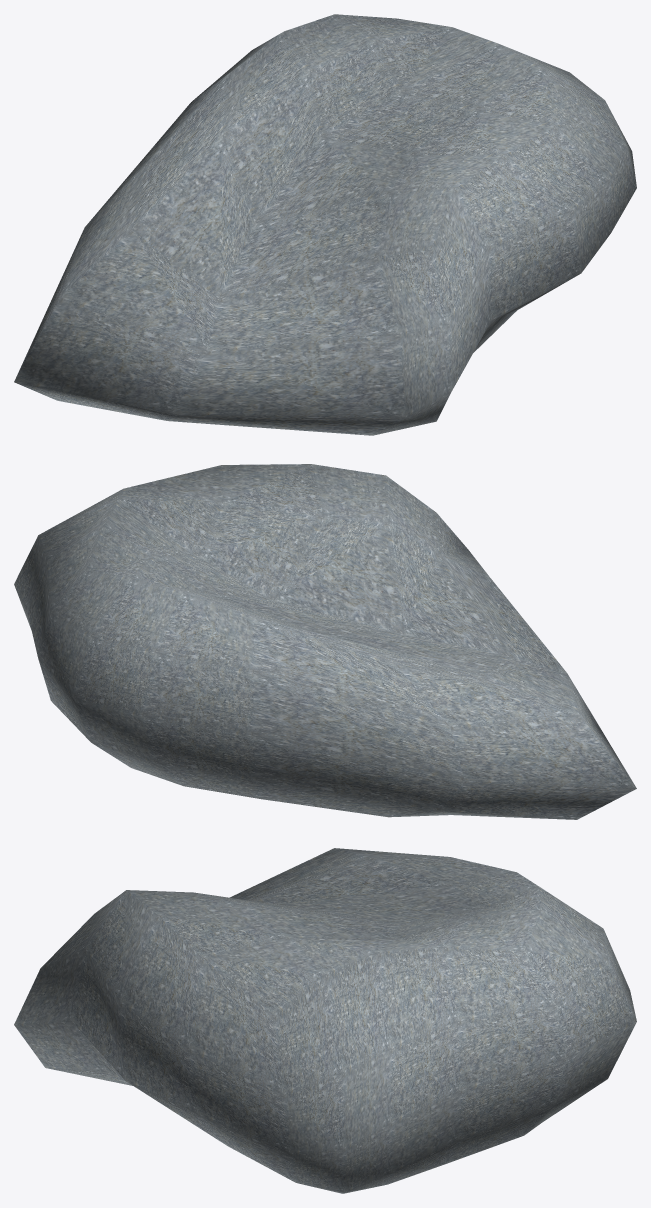
File: Rock3.fbx
3 views of the same model, one above another, from view 1: azimuth 30°, elevation 25°; view 2: azimuth 150°, elevation 25°; view 3: azimuth 270°, elevation 25° (orthographic). The views are drawn at different scales.
Visible parts, largest first — view 1: Cube; view 2: Cube; view 3: Cube.
Boxes of the visible parts, box(x1,y1,x2,y2) form: Cube: box(14, 14, 636, 435); Cube: box(14, 464, 636, 819); Cube: box(14, 848, 636, 1193).
Bounding box in the file's own units: 764 × 290 × 606.
Materials: 1 (1 with a texture image).
